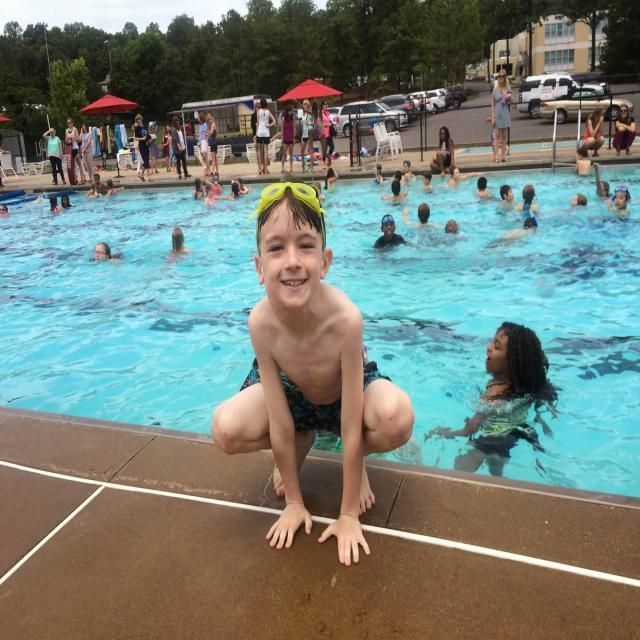Drowning: (74, 242, 124, 267)
Swimming: (464, 316, 556, 454), (487, 218, 543, 246), (372, 212, 407, 251), (162, 229, 192, 261)
